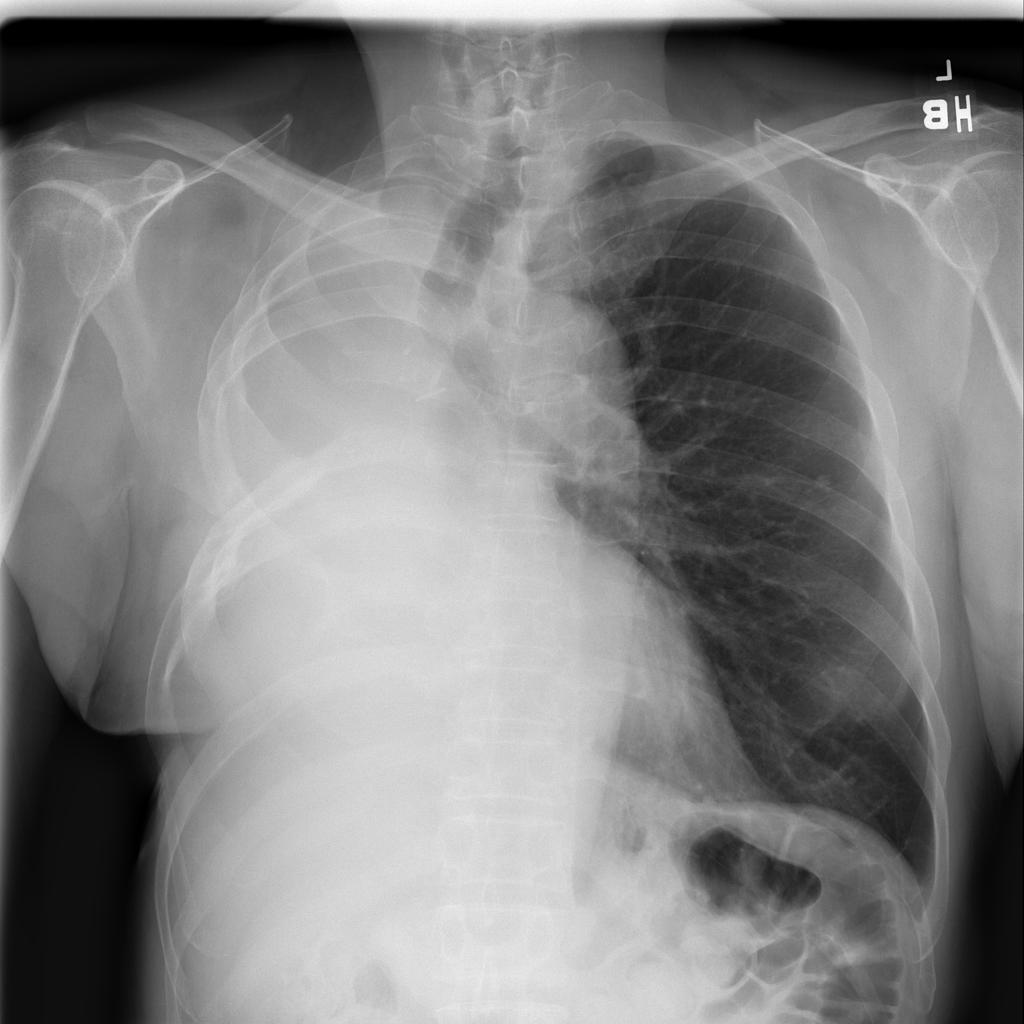nodule: (800, 454, 851, 504)
